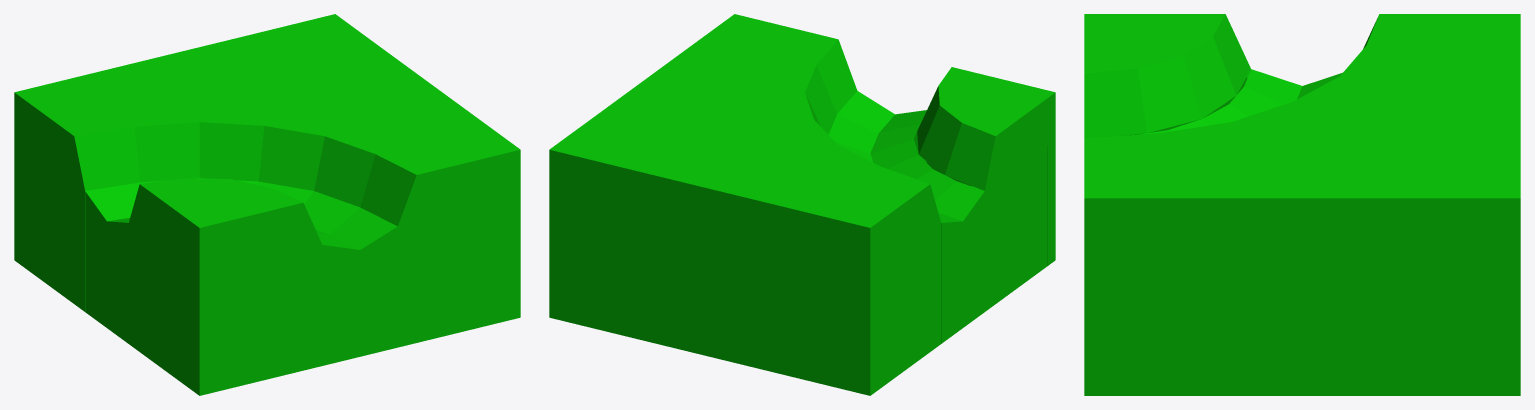
The model's file is UCXKugelbahn.35.fbx.
3 renders of one model, left to right at view 1: azimuth 30°, elevation 25°; view 2: azimuth 150°, elevation 25°; view 3: azimuth 270°, elevation 25°, orthographic. The views are drawn at different scales.
Parts seen in each view (by area): view 1: UCX_Kugelbahn.35_low; view 2: UCX_Kugelbahn.35_low; view 3: UCX_Kugelbahn.35_low.
Part boxes in pixels (bbox=[...]): UCX_Kugelbahn.35_low: bbox=[14, 14, 520, 395]; UCX_Kugelbahn.35_low: bbox=[549, 14, 1055, 395]; UCX_Kugelbahn.35_low: bbox=[1084, 14, 1520, 395].
Bounding box in the file's own units: 0.05 × 0.025 × 0.05.
